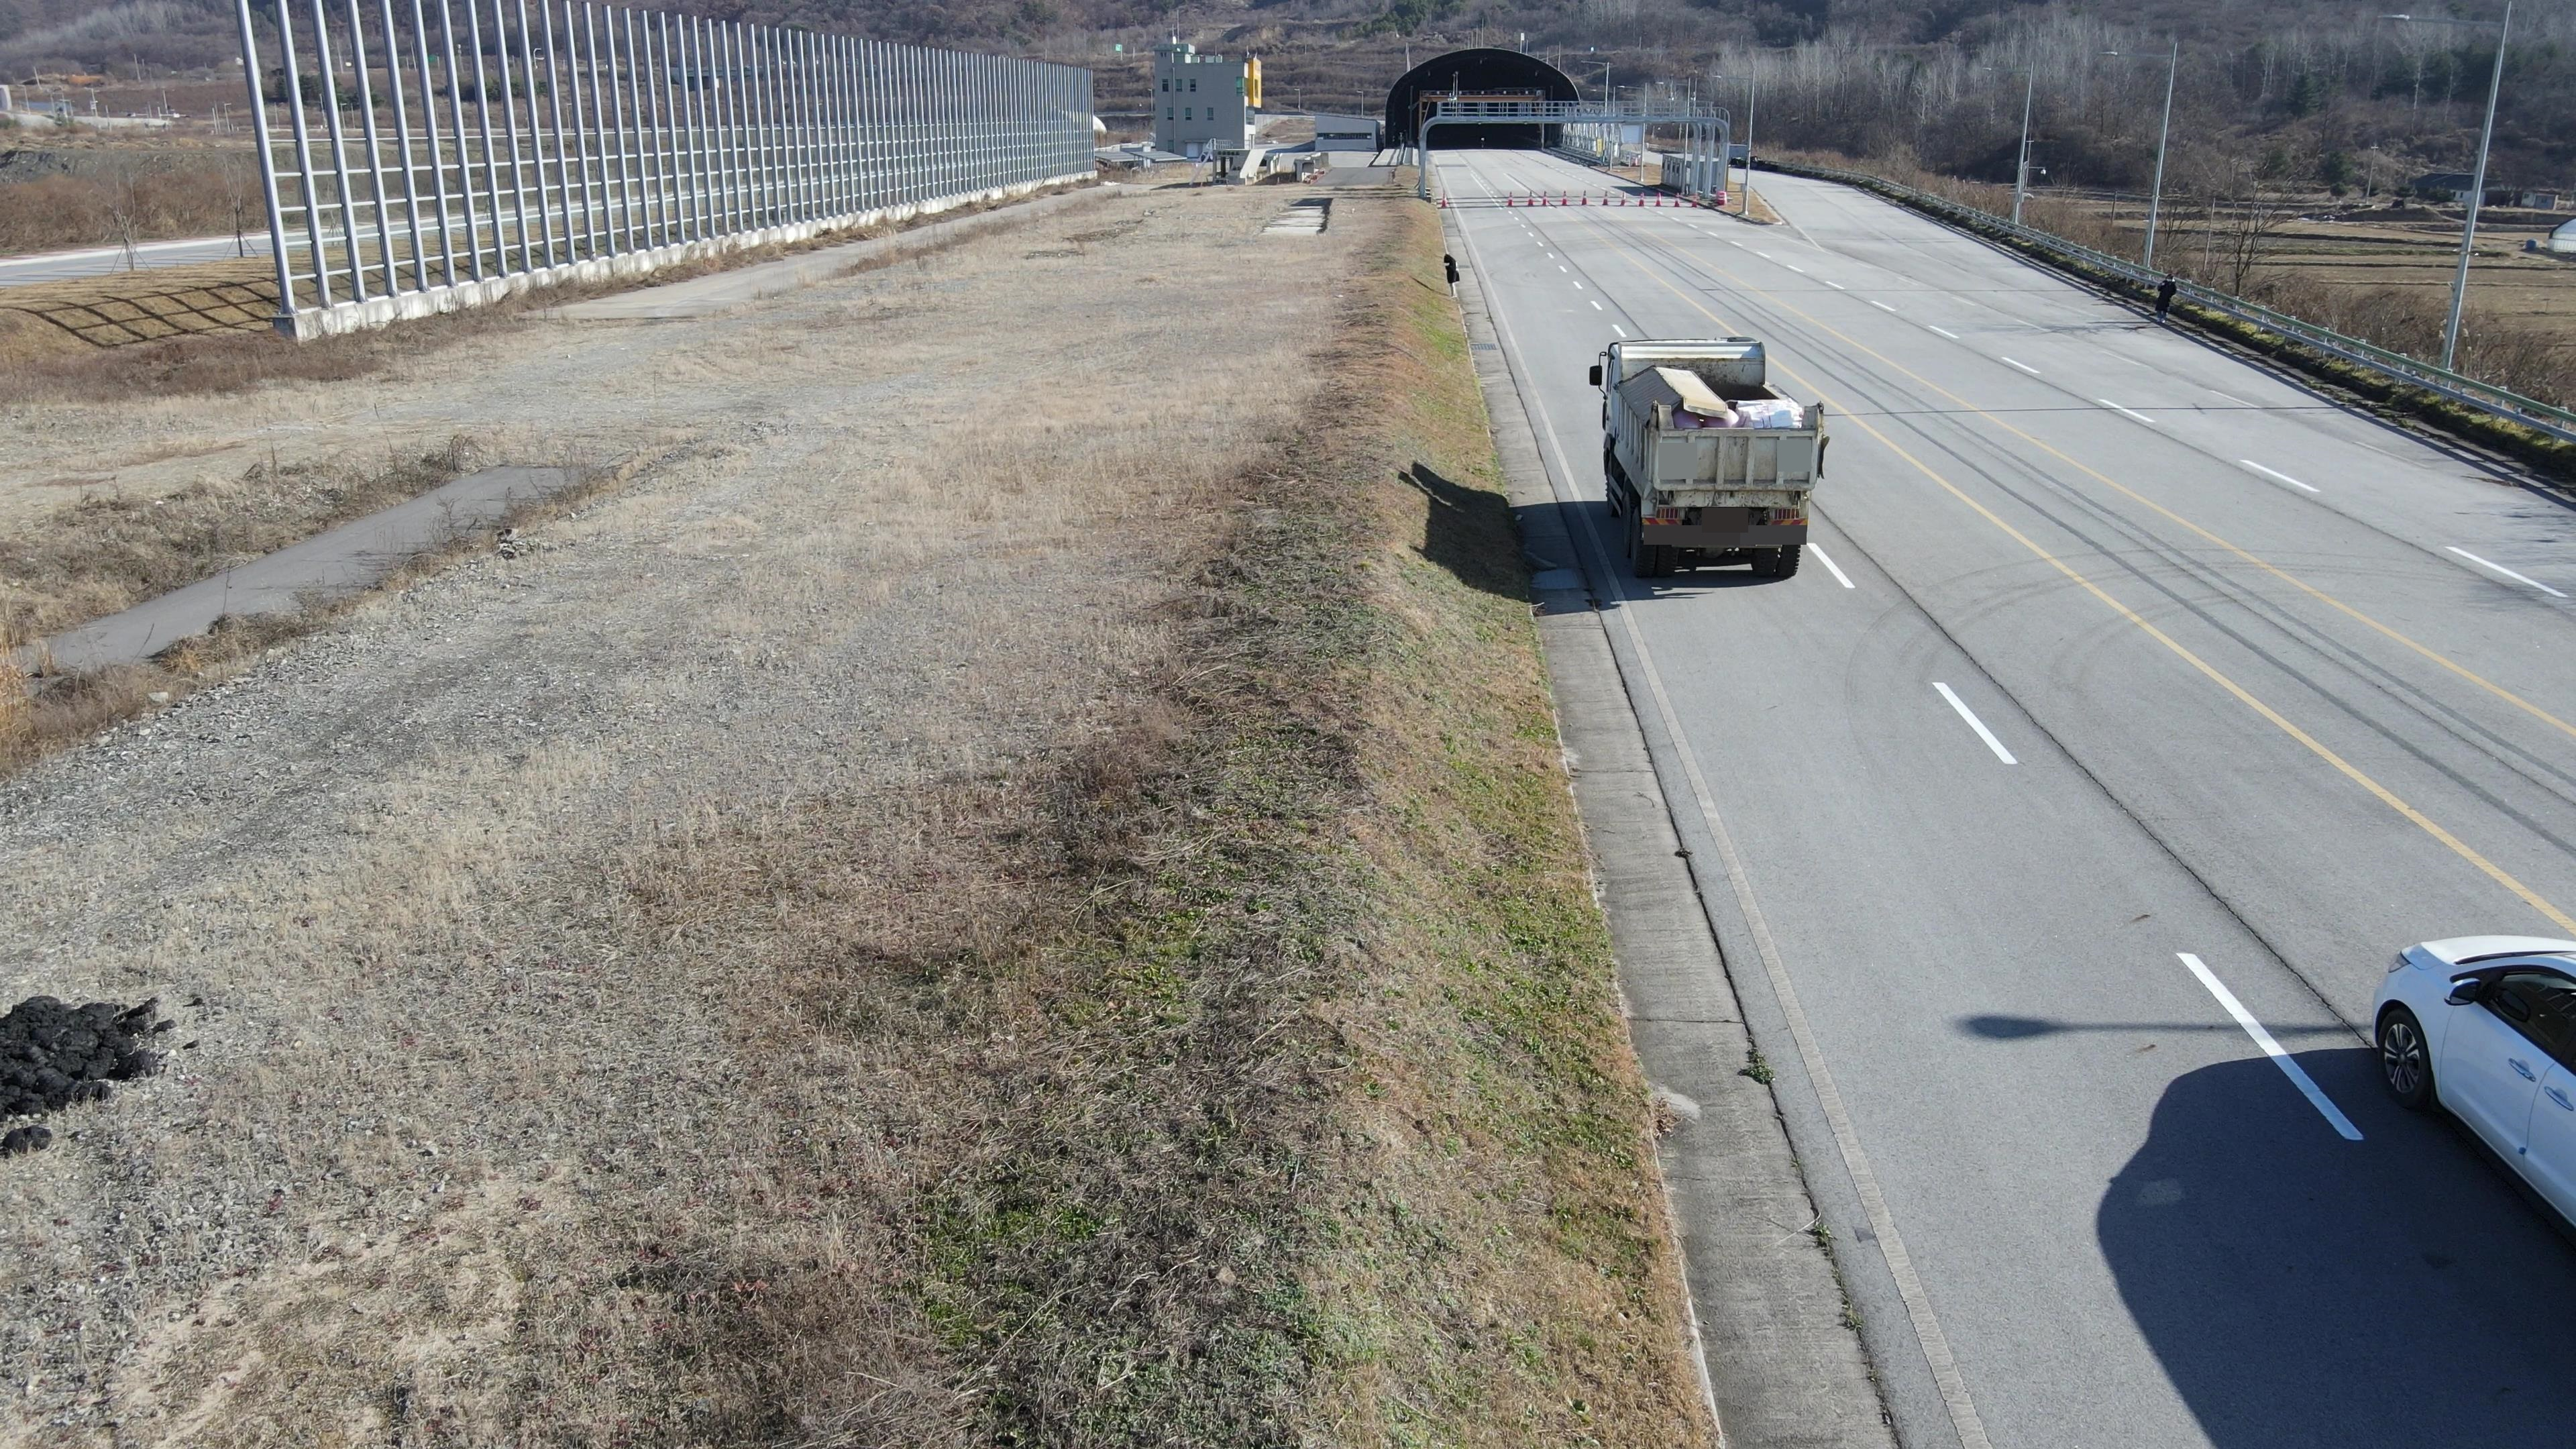불법차량: (1589, 336, 1829, 579)
